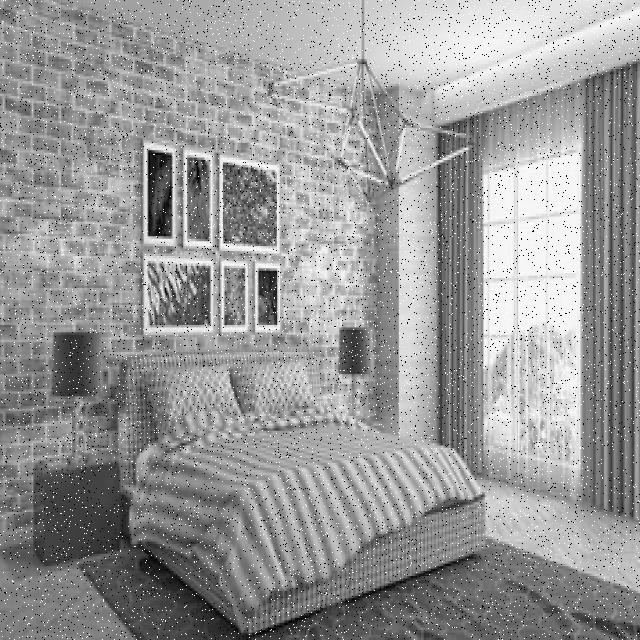bed: (130, 352, 483, 588)
